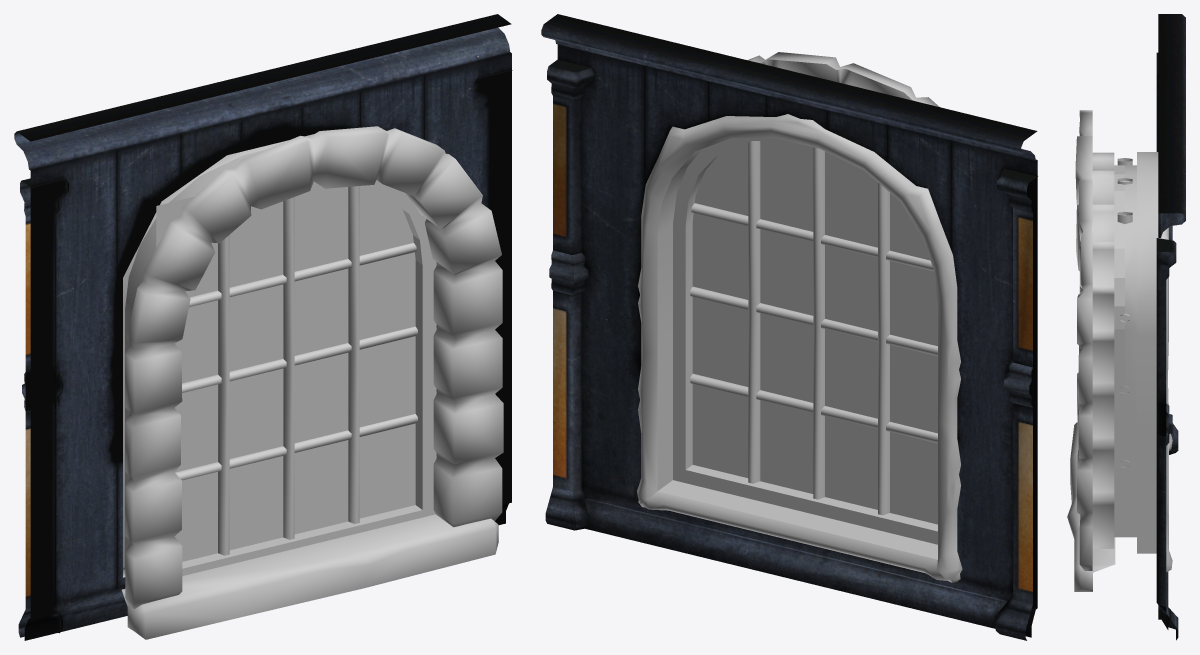
The model's file is window_large_blue_seethrough_blue.dae.
The picture shows the model from 3 angles, left to right: view 1: azimuth 30°, elevation 25°; view 2: azimuth 150°, elevation 25°; view 3: azimuth 270°, elevation 25°; orthographic projection. The views are drawn at different scales.
Visible parts, largest first — view 1: polySurface679, polySurface682, polySurface639, polySurface680, polySurface640; view 2: polySurface679, polySurface680, polySurface682, polySurface639; view 3: polySurface680, polySurface639, polySurface679, polySurface640.
Part boxes in pixels (<box>): polySurface679: <box>14,14,512,640</box>; polySurface682: <box>156,181,415,561</box>; polySurface639: <box>125,126,503,609</box>; polySurface680: <box>123,134,436,577</box>; polySurface640: <box>121,514,498,639</box>; polySurface679: <box>541,14,1037,640</box>; polySurface680: <box>637,114,962,582</box>; polySurface682: <box>692,141,937,524</box>; polySurface639: <box>747,52,939,106</box>; polySurface680: <box>1114,152,1172,572</box>; polySurface639: <box>1075,110,1114,570</box>; polySurface679: <box>1156,14,1185,640</box>; polySurface640: <box>1067,422,1115,591</box>.
Size of the model in its own units: 4 by 4 by 1.01.
